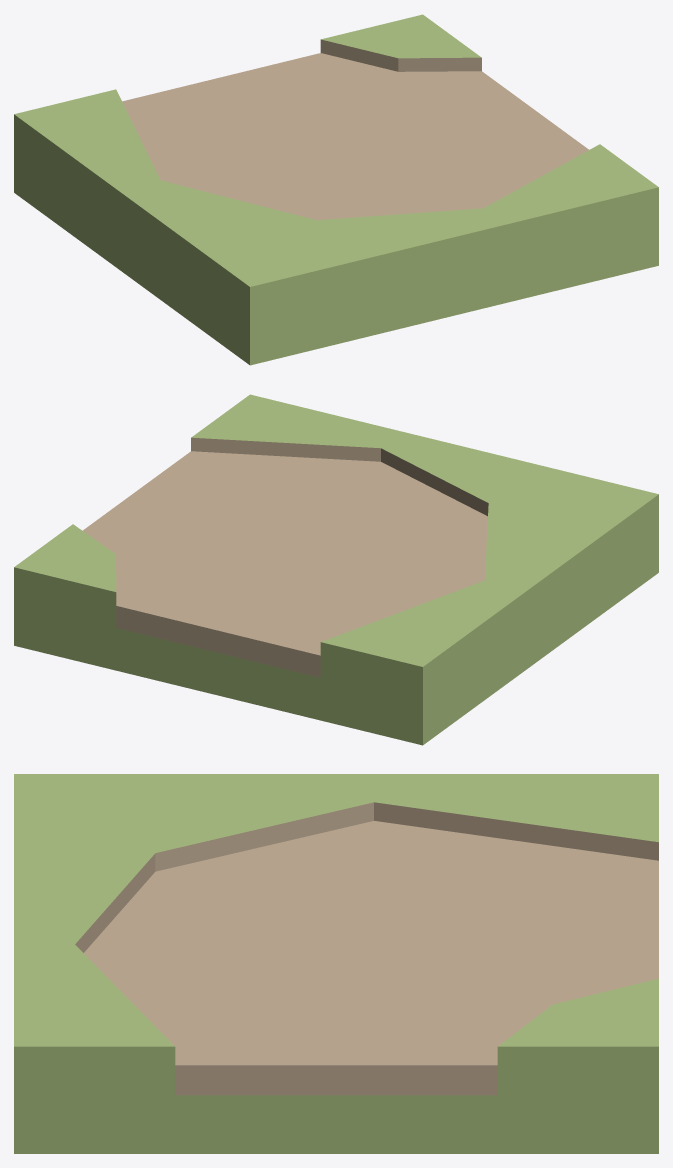
The model's file is SM_GRASS_03.fbx.
3 renders of one model, top to bottom at view 1: azimuth 30°, elevation 25°; view 2: azimuth 150°, elevation 25°; view 3: azimuth 270°, elevation 25°, orthographic. The views are drawn at different scales.
Visible parts, largest first — view 1: GRASS_03; view 2: GRASS_03; view 3: GRASS_03.
Boxes of the visible parts, x1,y1,x2,y2 form: GRASS_03: (14,14,658,365); GRASS_03: (14,394,658,745); GRASS_03: (14,774,658,1153).
Size of the model in its own units: 437 by 80.19 by 437.
